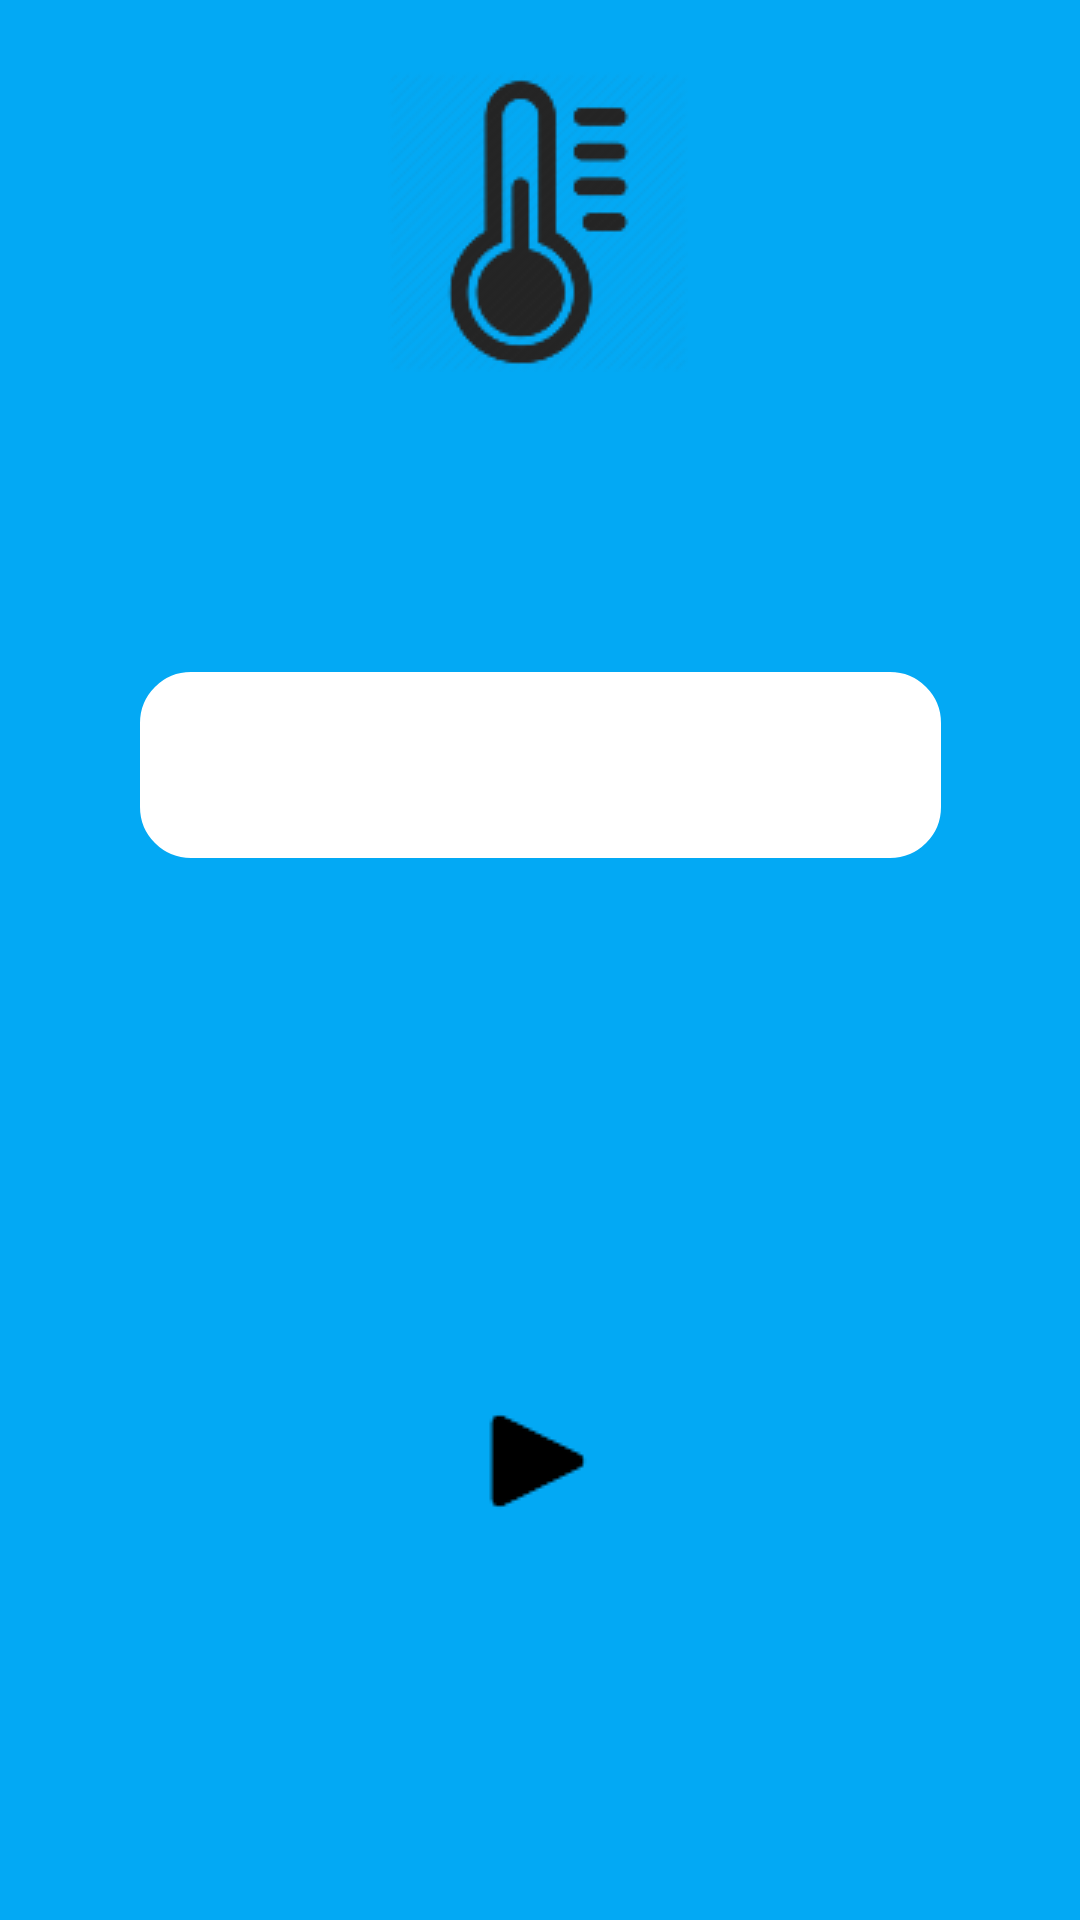

Icon bounding boxes for this 1080 x 1920 phone screenshot, format (x1, y1, x2, y2):
play: (489, 1415, 584, 1507)
temperatura: (448, 80, 629, 364)
